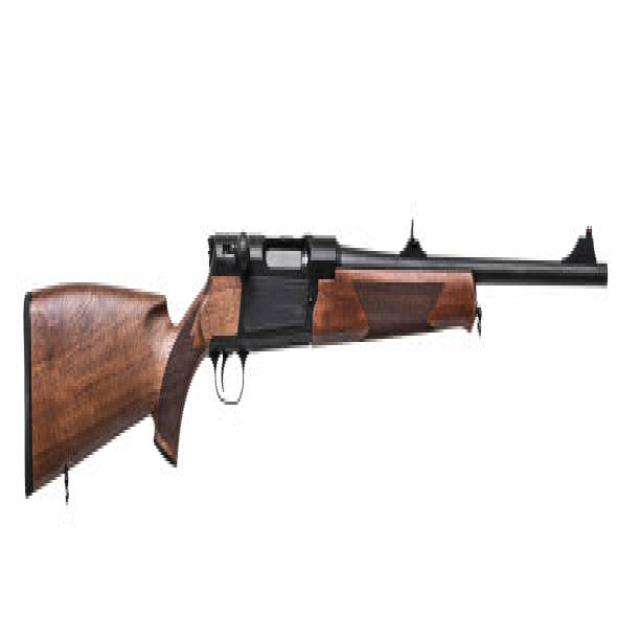rifle: (21, 195, 613, 529)
